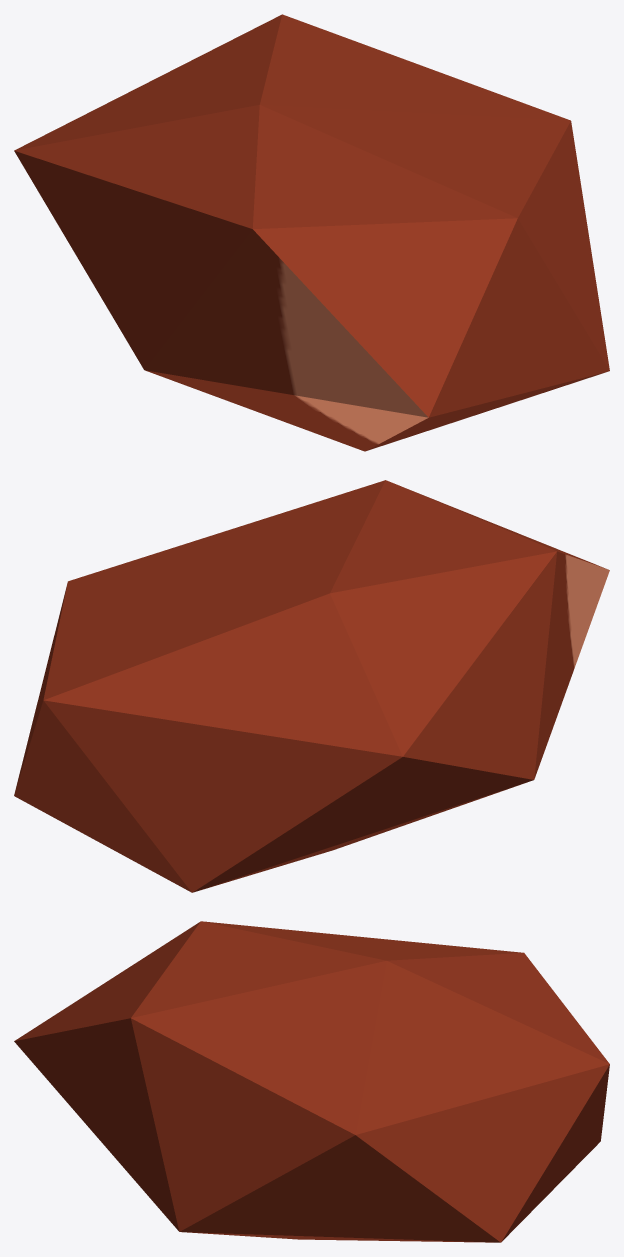
The model's file is Pebble1.fbx.
3 renders of one model, top to bottom at view 1: azimuth 30°, elevation 25°; view 2: azimuth 150°, elevation 25°; view 3: azimuth 270°, elevation 25°, orthographic. The views are drawn at different scales.
Parts seen in each view (by area): view 1: Pebble1; view 2: Pebble1; view 3: Pebble1.
Boxes of the visible parts, x1=… form: Pebble1: x1=14, y1=14, x2=609, y2=451; Pebble1: x1=14, y1=480, x2=609, y2=892; Pebble1: x1=14, y1=921, x2=609, y2=1242.
Bounding box in the file's own units: 51.29 × 34.33 × 71.69.
